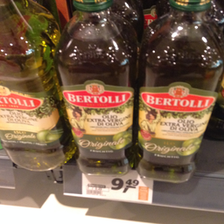oil: (137, 1, 224, 182), (52, 1, 138, 173), (1, 1, 74, 171)
